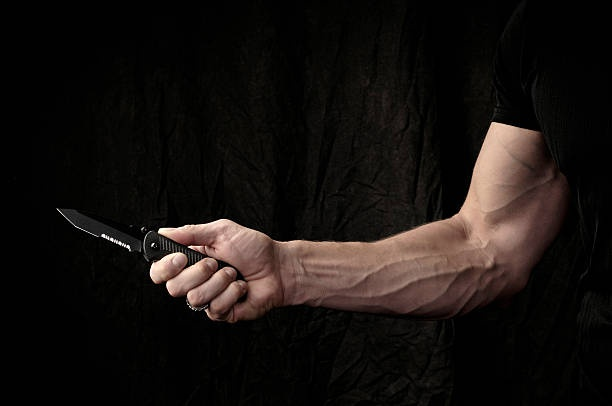knife: (54, 205, 253, 299)
